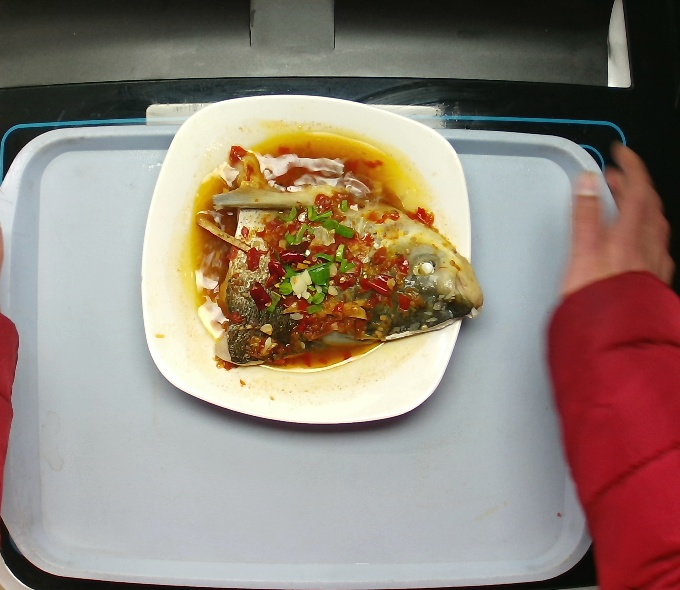wcq-DuoJiaoYuTou: (185, 139, 488, 376)
